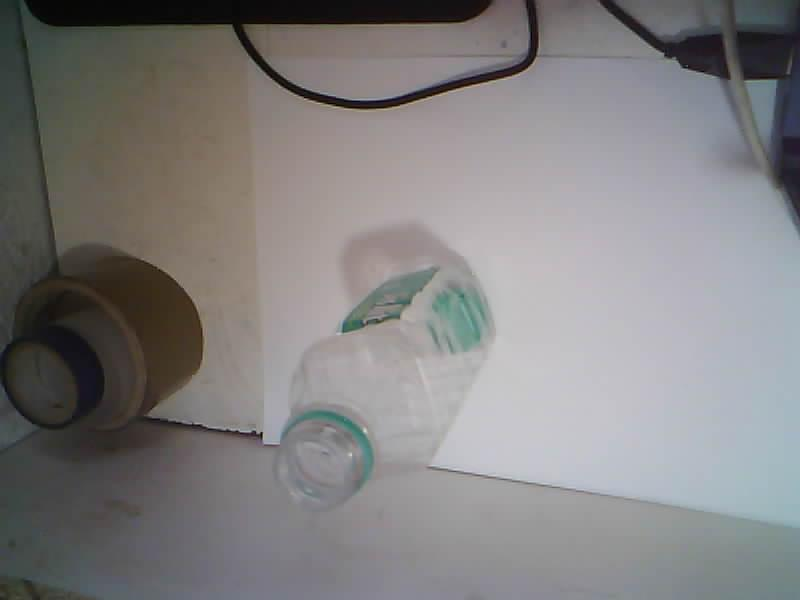non-biodegradable: (274, 264, 493, 510)
